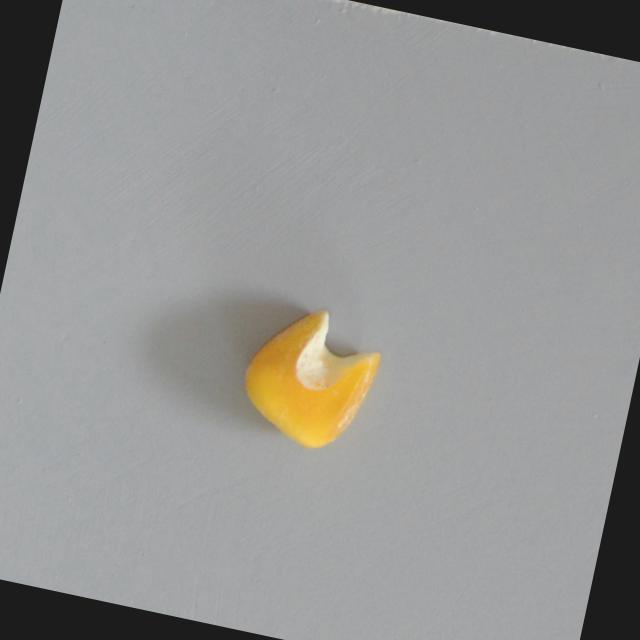pelicula: (230, 292, 389, 456)
